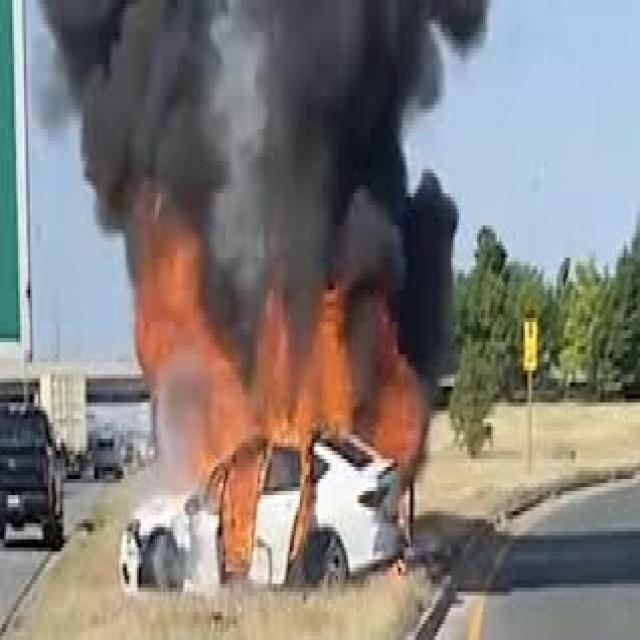fire: (122, 221, 252, 459), (370, 310, 421, 471), (199, 446, 258, 572), (257, 290, 302, 447), (310, 286, 354, 439)
smoke: (38, 4, 497, 221), (249, 161, 459, 294)
